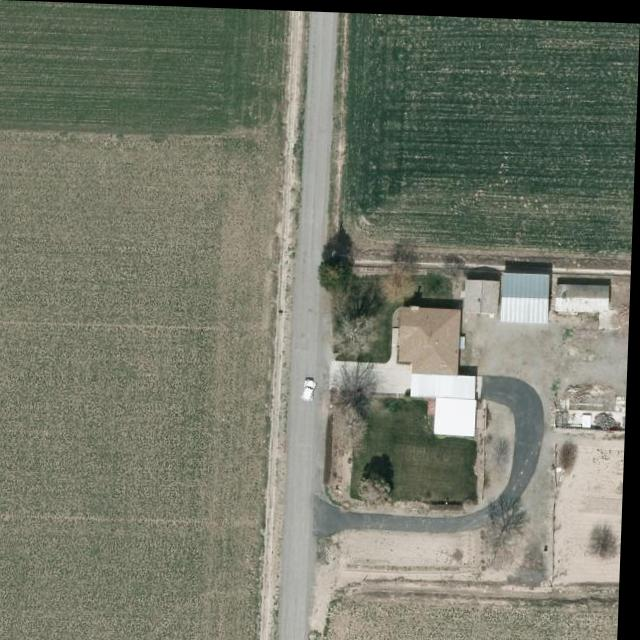vehicle: (304, 376, 319, 400)
